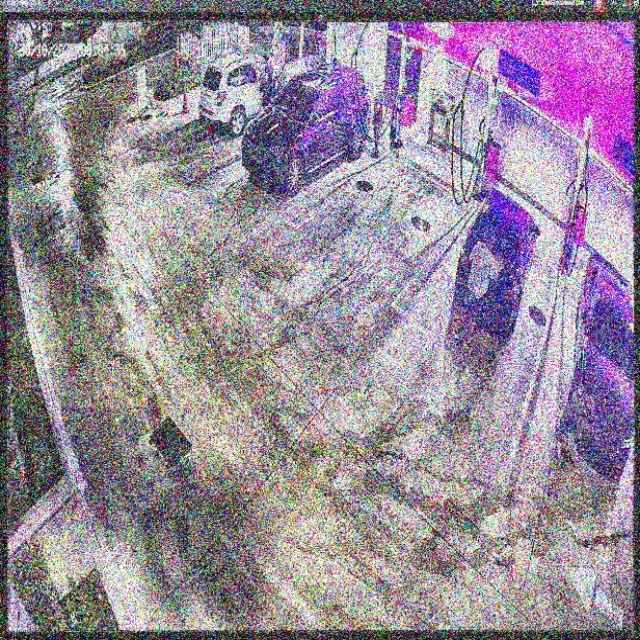Car: (241, 61, 370, 192), (458, 189, 538, 333)
